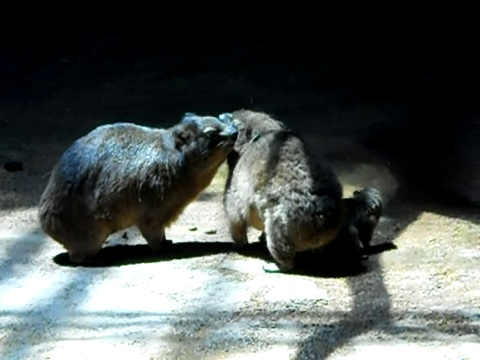Rock Hyrex: (36, 112, 238, 266), (220, 109, 364, 274)
